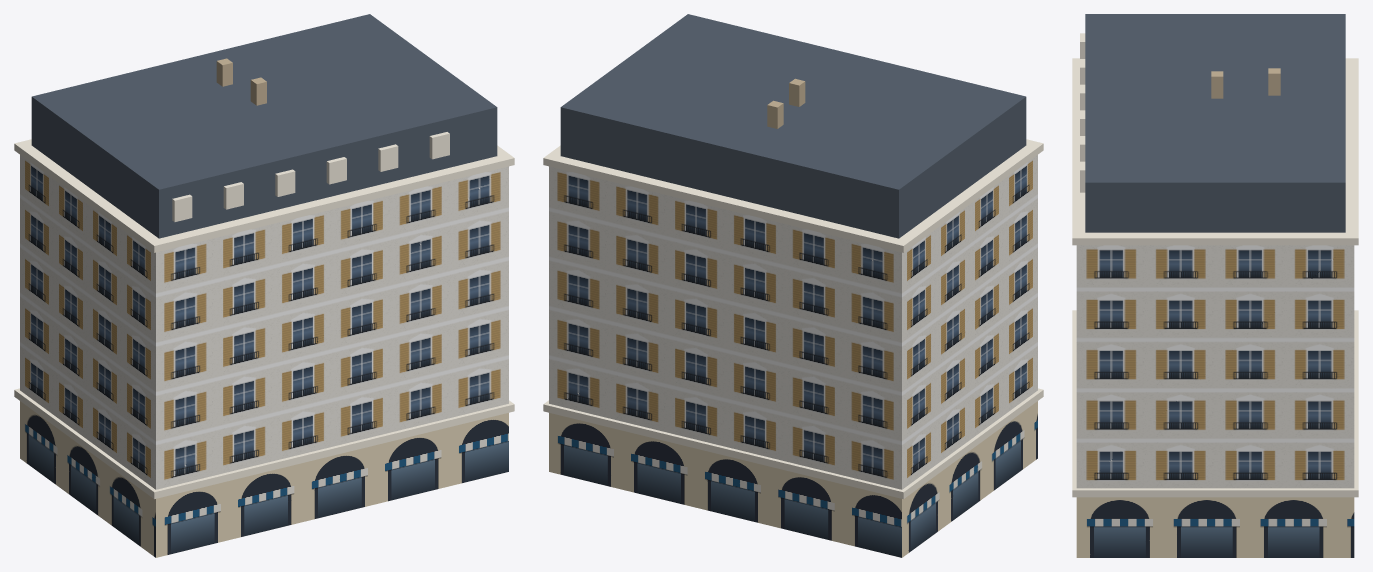
Rendered from belle_epoque_a.glb.
3 renders of one model, left to right at view 1: azimuth 30°, elevation 25°; view 2: azimuth 150°, elevation 25°; view 3: azimuth 270°, elevation 25°, orthographic. The views are drawn at different scales.
Visible parts, largest first — view 1: building; view 2: building; view 3: building.
Boxes of the visible parts, <box> form: building: <box>14,14,514,557</box>; building: <box>543,14,1043,557</box>; building: <box>1072,14,1358,557</box>.
Bounding box in the file's own units: 24.5 × 25 × 16.5.
5 materials, 2 textured.
